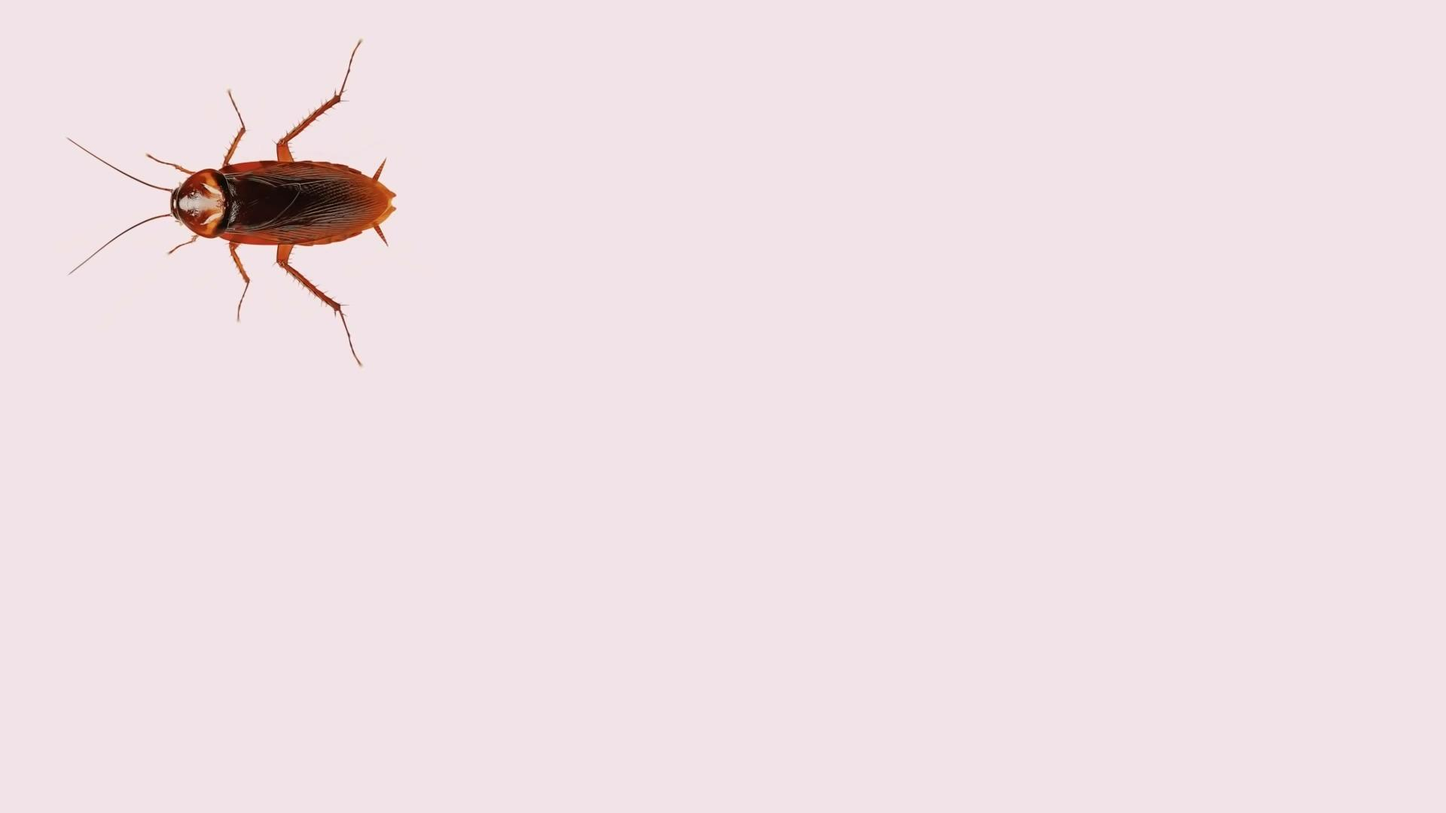cockroach: (54, 84, 439, 358)
